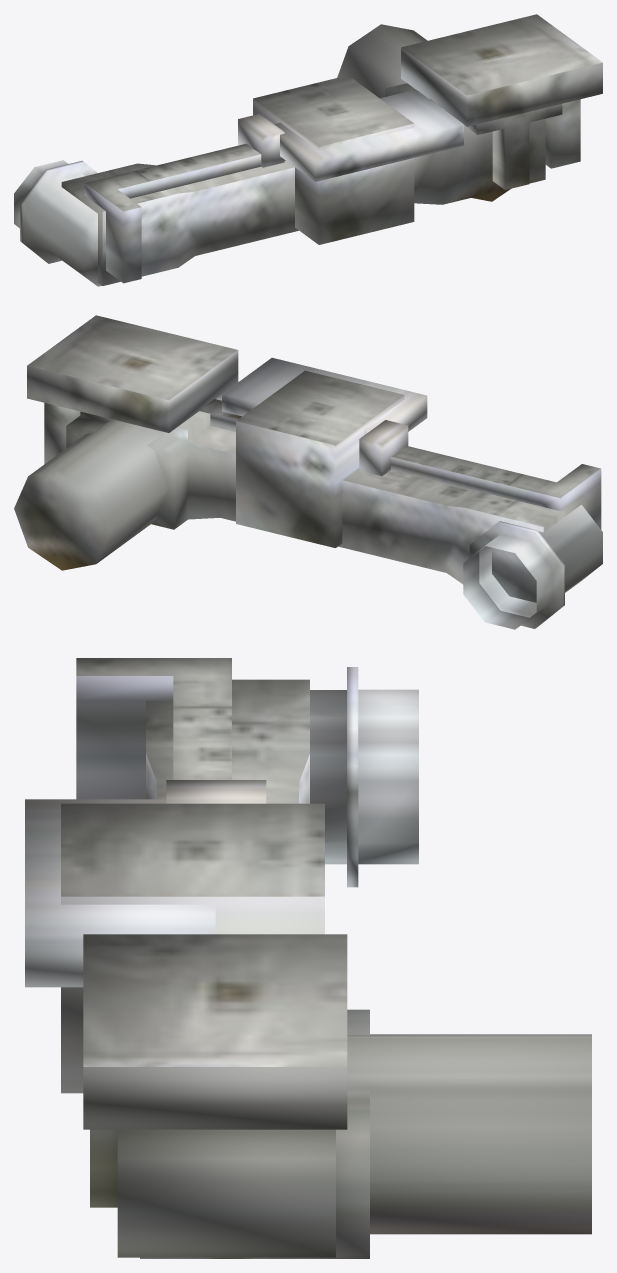
Rendered from dextre_arm_2_shoulder_pitch.dae.
The picture shows the model from 3 angles, top to bottom: view 1: azimuth 30°, elevation 25°; view 2: azimuth 150°, elevation 25°; view 3: azimuth 270°, elevation 25°; orthographic projection. The views are drawn at different scales.
Visible parts, largest first — view 1: 29 DEXTRE.006; view 2: 29 DEXTRE.006; view 3: 29 DEXTRE.006.
Part boxes in pixels (bbox=[...]): 29 DEXTRE.006: bbox=[14, 14, 602, 286]; 29 DEXTRE.006: bbox=[14, 315, 602, 629]; 29 DEXTRE.006: bbox=[25, 658, 591, 1258].
Bounding box in the file's own units: 1.49 × 0.711 × 0.3614.
1 material, 1 textured.
